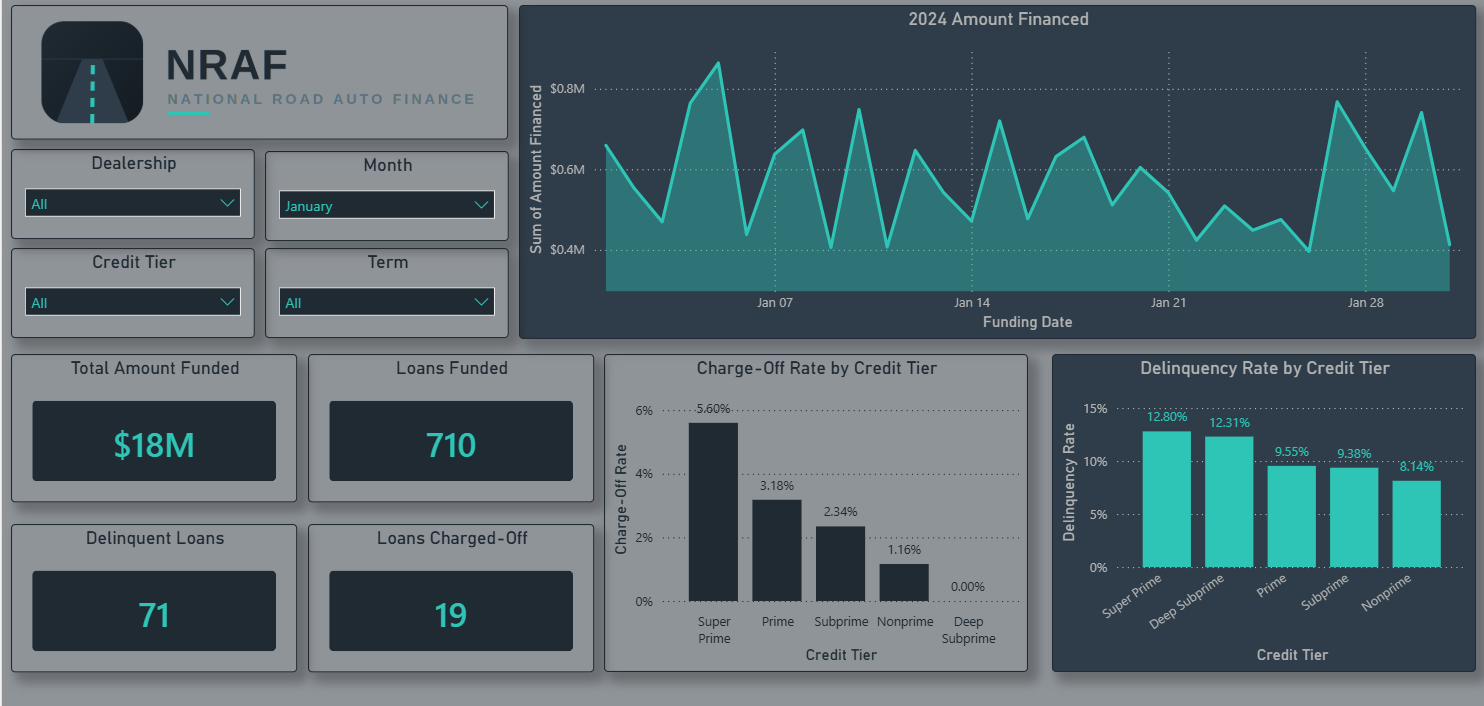

The page's visual inventory and layout, read from the dashboard file:
{"tool":"powerbi","page":{"name":"Page 1","canvas":[1400,680],"ordinal":0},"visuals":[{"type":"areaChart","title":"2024 Amount Financed","fields":{"Category":["Working Loan Data.Funding Date"],"Y":["Sum(Working Loan Data.Amount Financed)"]},"box":[488,10,903,315],"z":0},{"type":"slicer","title":"Dealership","fields":{"Values":["Working Loan Data.Dealership"]},"box":[8.9,146.6,230,85],"z":1000},{"type":"slicer","title":"Month","fields":{"Values":["Working Loan Data.Funding Date.Variation.Date Hierarchy.Month"]},"box":[247.8,147.7,230,85],"z":2000},{"type":"slicer","title":"Credit Tier","fields":{"Values":["Working Loan Data.Credit Tier"]},"box":[8.9,240,230,85],"z":3000},{"type":"slicer","title":"Term","fields":{"Values":["Working Loan Data.Loan Term (Months)"]},"box":[247.8,239.9,230,85],"z":4000},{"type":"cardVisual","title":"Loans Funded","fields":{"Data":["CountNonNull(Working Loan Data.Loan ID)"]},"box":[288.7,339.6,270,140],"z":5000},{"type":"cardVisual","title":"Total Amount Funded","fields":{"Data":["Sum(Working Loan Data.Amount Financed)"]},"box":[8.5,339.6,270,140],"z":6000},{"type":"image","box":[8.9,10,468.9,126.7],"z":7000},{"type":"cardVisual","title":"Loans Charged-Off","fields":{"Data":["Working Loan Data.Loans Charged-Off"]},"box":[288.7,500,270,140],"z":8000},{"type":"columnChart","fields":{"Category":["Working Loan Data.Credit Tier"],"Y":["Working Loan Data.Delinquency Rate"]},"box":[990.6,339.6,400,300],"z":9000},{"type":"columnChart","fields":{"Category":["Working Loan Data.Credit Tier"],"Y":["Working Loan Data.Charge-Off Rate"]},"box":[567.9,339.6,400,300],"z":10000},{"type":"cardVisual","title":"Delinquent Loans","fields":{"Data":["Working Loan Data.Loans Delinquent"]},"box":[8.5,500,270,140],"z":11000}]}

Visuals, with their boxes in screenshot pixels (x1, y1, x2, y2), scaled from the page's 1400x680 canvas onto the 1484x706 screenshot:
"2024 Amount Financed" areaChart: (517, 10, 1474, 337)
"Dealership" slicer: (9, 152, 253, 240)
"Month" slicer: (263, 153, 506, 242)
"Credit Tier" slicer: (9, 249, 253, 337)
"Term" slicer: (263, 249, 506, 337)
"Loans Funded" cardVisual: (306, 353, 592, 498)
"Total Amount Funded" cardVisual: (9, 353, 295, 498)
image: (9, 10, 506, 142)
"Loans Charged-Off" cardVisual: (306, 519, 592, 664)
columnChart - Working Loan Data.Credit Tier x Working Loan Data.Delinquency Rate: (1050, 353, 1474, 664)
columnChart - Working Loan Data.Credit Tier x Working Loan Data.Charge-Off Rate: (602, 353, 1026, 664)
"Delinquent Loans" cardVisual: (9, 519, 295, 664)
